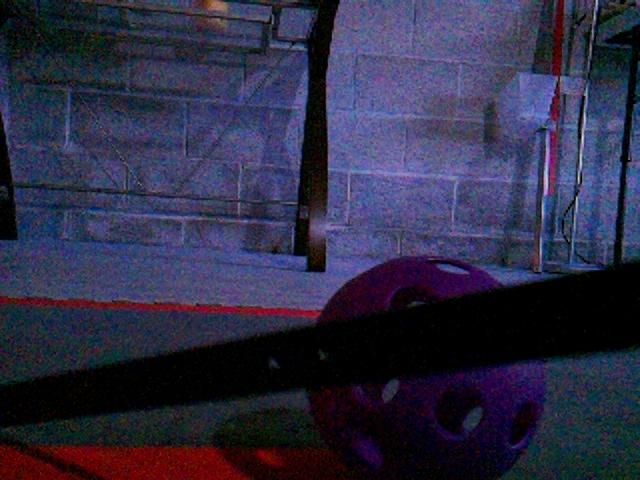Purple: (304, 252, 551, 479)
